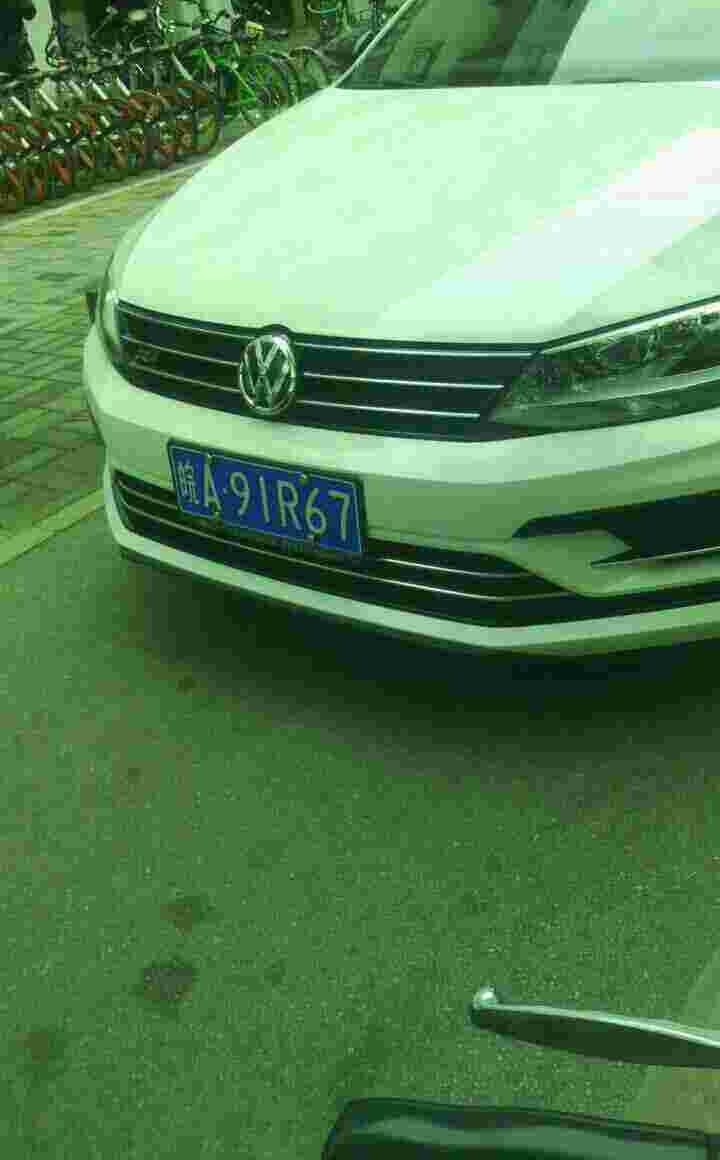plate: (164, 437, 367, 561)
